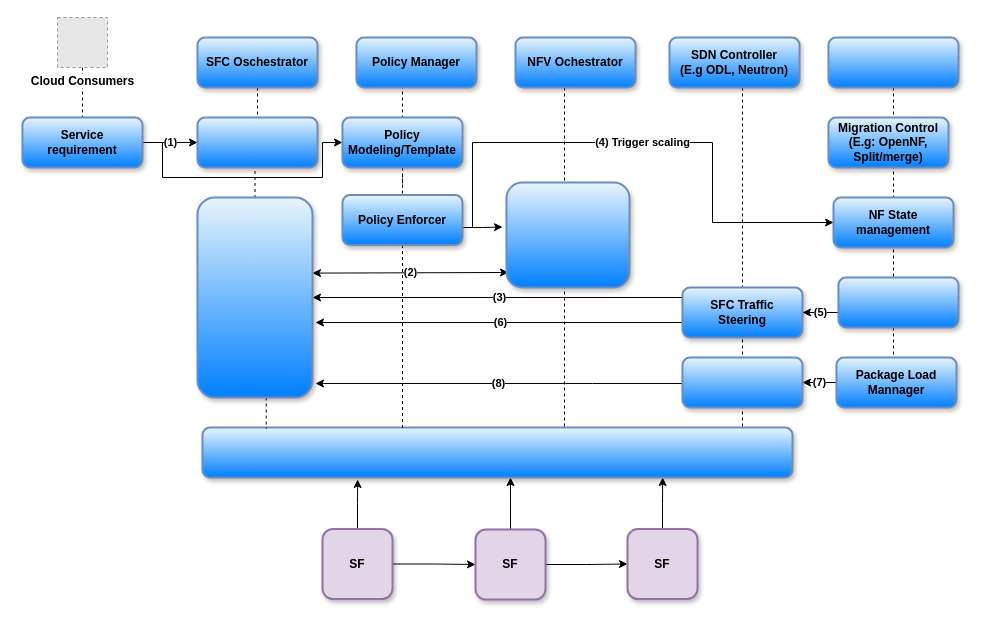
This 982x625 diagram has some shape labels left out. Grey dashed boxes stand in for pictures. The centre of each missing label's shape, as x and y in pixels:
"ASSFC" belongs at point 894,63.
"Flow Manager" belongs at point 899,303.
"Monitoring" belongs at point 498,453.
"Service Distribution" belongs at point 255,298.
"Service Modeling" belongs at point 258,143.
"SFC Resource allocation" belongs at point 568,236.
"SFC Traffic Controller" belongs at point 743,383.
